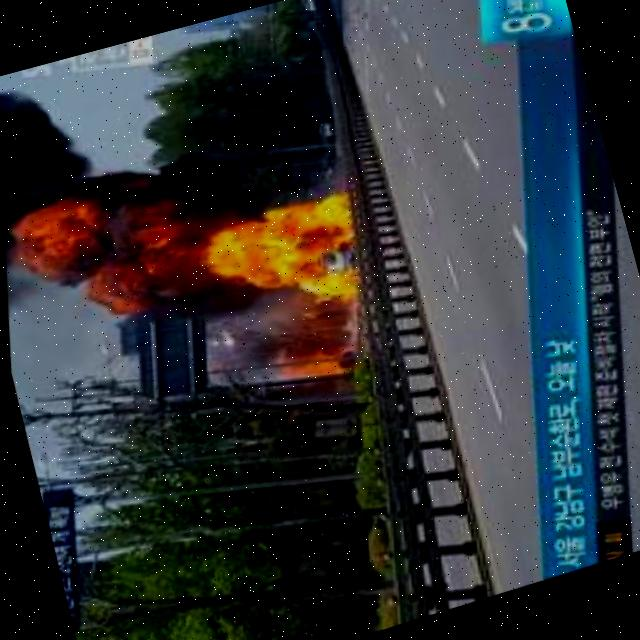fire: (198, 177, 371, 331), (264, 333, 345, 394)
